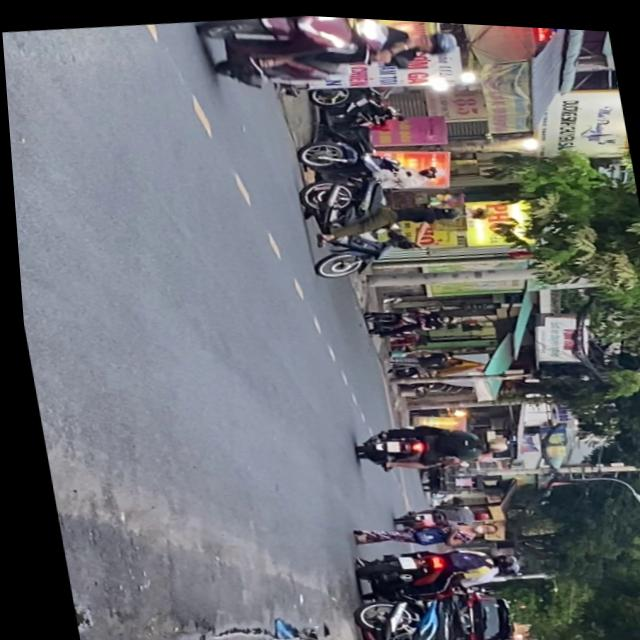helmet: (409, 22, 458, 53), (431, 199, 459, 217), (476, 430, 502, 447)
licenseplate: (191, 8, 466, 102), (288, 159, 471, 285)
